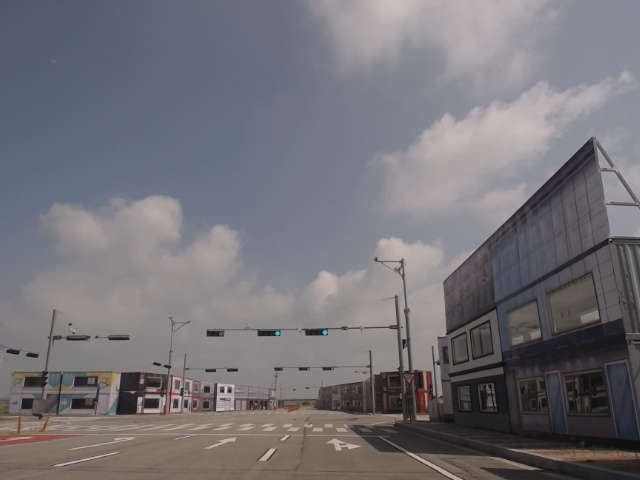straight_green_4: (259, 329, 281, 337), (306, 329, 329, 335)
